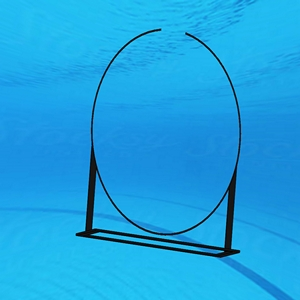circle: (73, 26, 245, 260)
